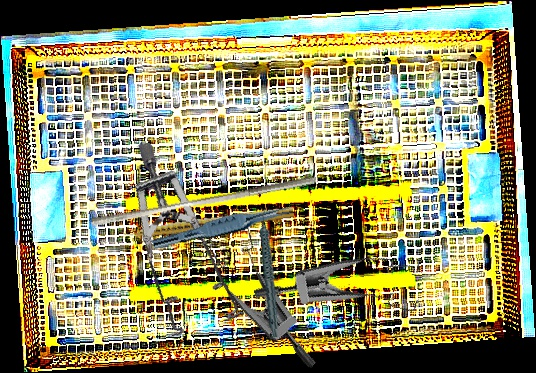Handpiece: (244, 205, 296, 338), (120, 203, 295, 242)
Pusher: (90, 166, 317, 235)
Speculum: (95, 140, 280, 352), (179, 208, 358, 371), (252, 228, 436, 364)
Tissue Forceps: (151, 197, 293, 258)
